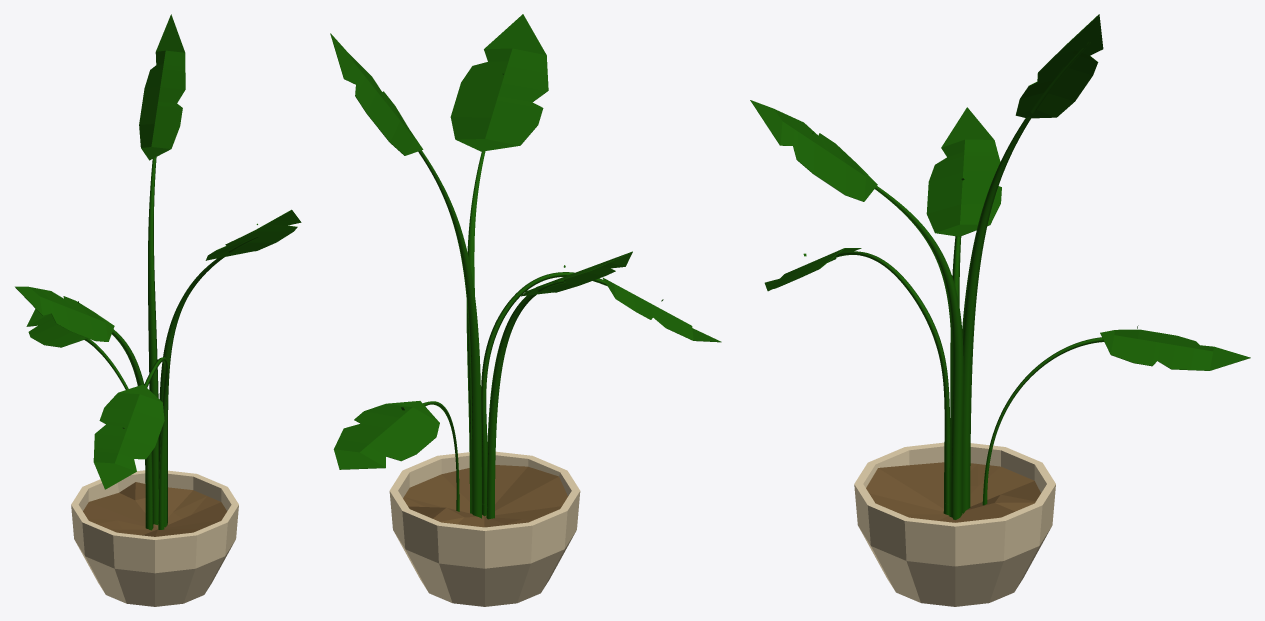
File: Plante_gamejam.fbx
3 views of the same model, side by side, from view 1: azimuth 30°, elevation 25°; view 2: azimuth 150°, elevation 25°; view 3: azimuth 270°, elevation 25° (orthographic). The views are drawn at different scales.
Visible parts, largest first — view 1: NurbsPath.002; view 2: NurbsPath.002; view 3: NurbsPath.002.
Boxes of the visible parts, left/top/right/bottom form: NurbsPath.002: left=15, top=14, right=301, bottom=606; NurbsPath.002: left=330, top=14, right=721, bottom=606; NurbsPath.002: left=750, top=14, right=1250, bottom=606.
Size of the model in its own units: 69.54 by 160 by 117.
